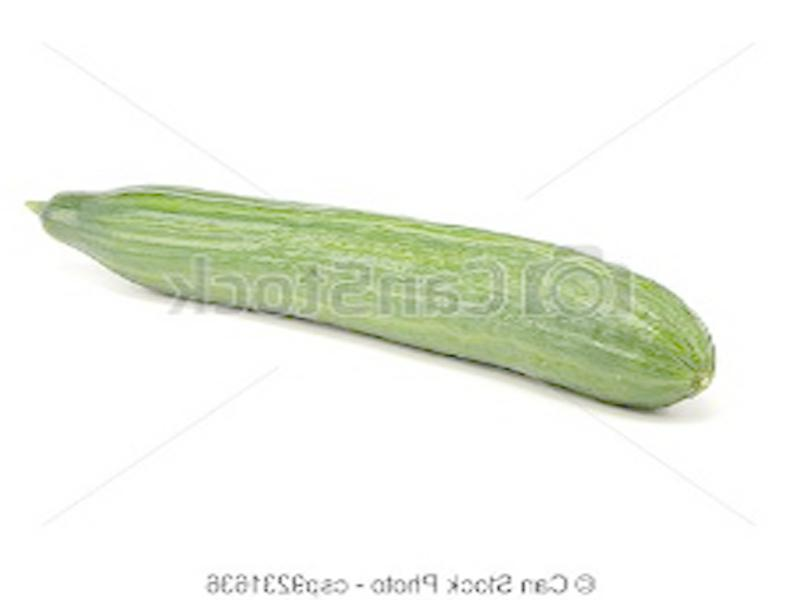Cucumber: (27, 188, 711, 410)
